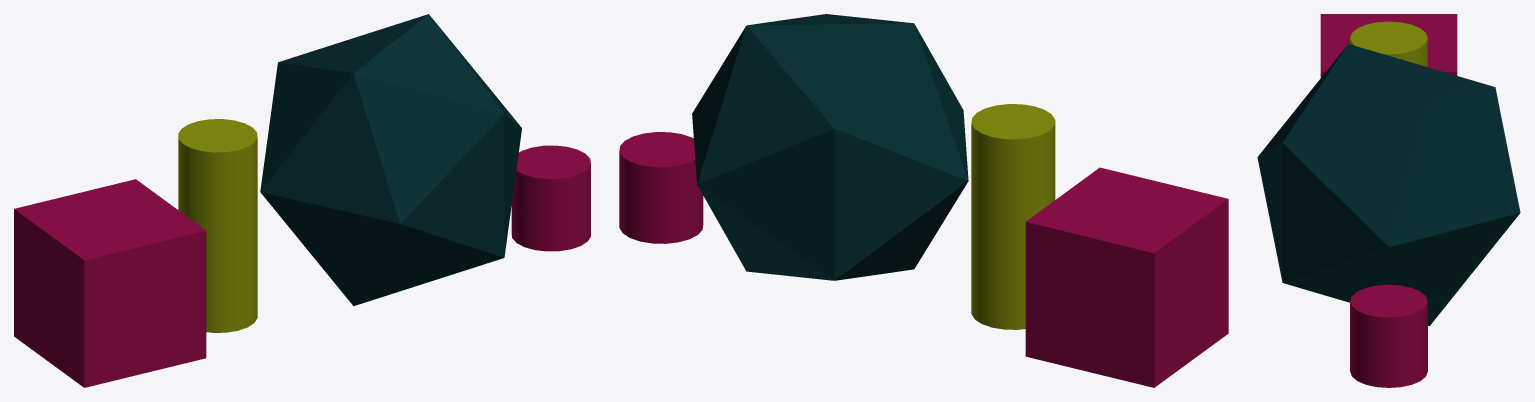
The model's file is Shelf2.fbx.
3 views of the same model, side by side, from view 1: azimuth 30°, elevation 25°; view 2: azimuth 150°, elevation 25°; view 3: azimuth 270°, elevation 25° (orthographic). The views are drawn at different scales.
Visible parts, largest first — view 1: Shelf2; view 2: Shelf2; view 3: Shelf2.
Boxes of the visible parts, bbox=[...] form: Shelf2: bbox=[14, 14, 590, 387]; Shelf2: bbox=[619, 14, 1228, 387]; Shelf2: bbox=[1257, 14, 1520, 387].
Size of the model in its own units: 0.0286 by 0.012 by 0.0125.
